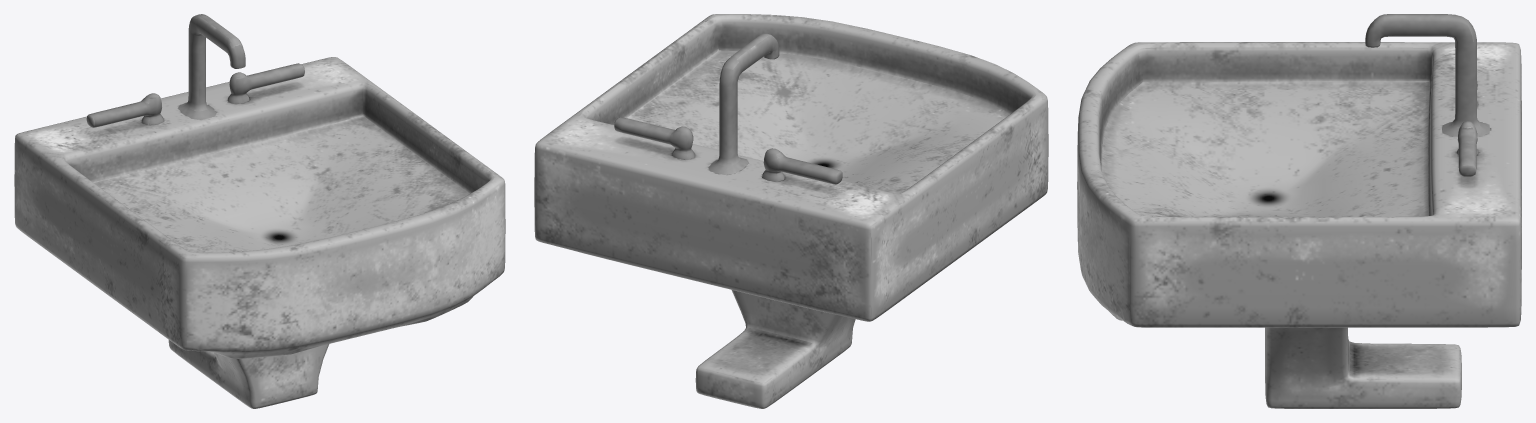
File: Pia_Adm_CENA.fbx
The picture shows the model from 3 angles, left to right: view 1: azimuth 30°, elevation 25°; view 2: azimuth 150°, elevation 25°; view 3: azimuth 270°, elevation 25°; orthographic projection. The views are drawn at different scales.
Parts seen in each view (by area): view 1: Cube.085; view 2: Cube.085; view 3: Cube.085.
Boxes of the visible parts, x1,y1,x2,y2 form: Cube.085: (14, 14, 505, 408); Cube.085: (534, 14, 1048, 408); Cube.085: (1077, 14, 1521, 408).
Size of the model in its own units: 49.79 by 48.26 by 51.62.
